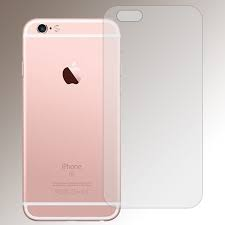iphone: (18, 17, 123, 223)
